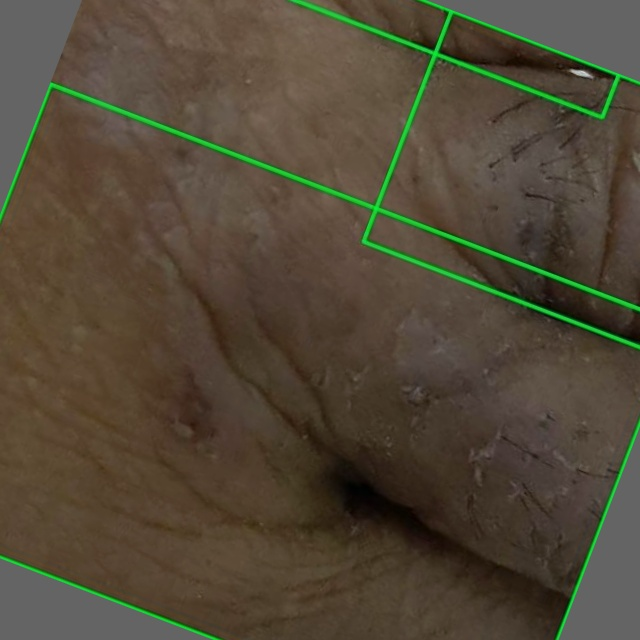Eczema: (0, 84, 639, 639), (363, 10, 639, 346), (296, 0, 618, 117)
